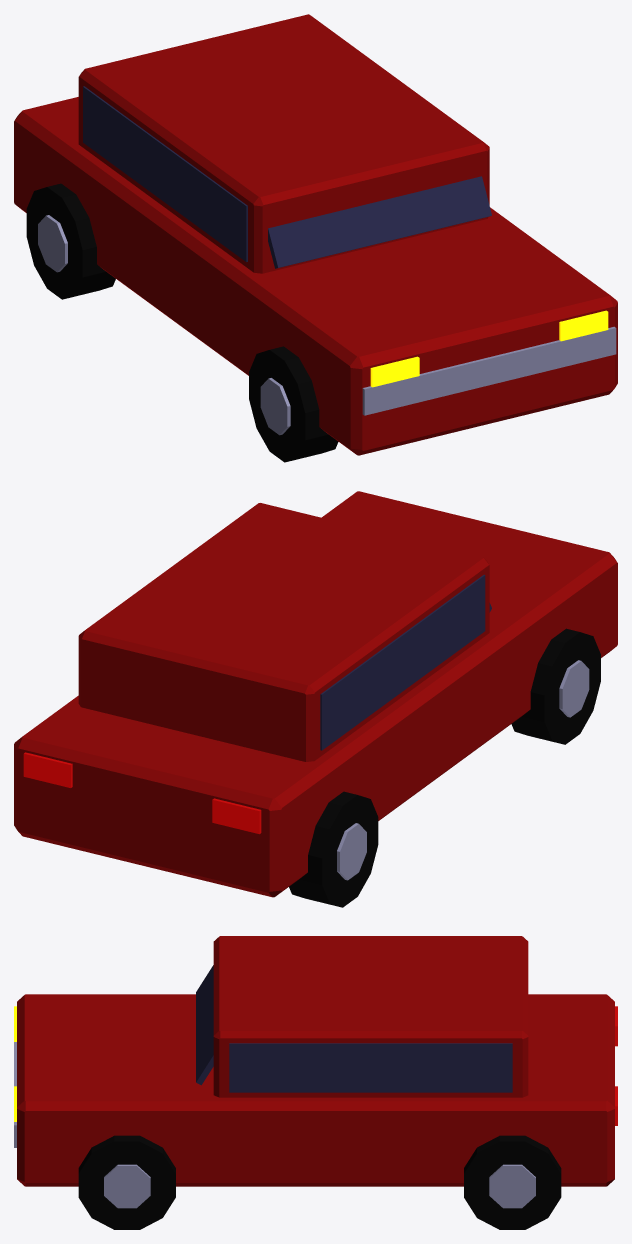
The model's file is car.glb.
The picture shows the model from 3 angles, top to bottom: view 1: azimuth 30°, elevation 25°; view 2: azimuth 150°, elevation 25°; view 3: azimuth 270°, elevation 25°; orthographic projection. The views are drawn at different scales.
Parts seen in each view (by area): view 1: root; view 2: root; view 3: root.
Boxes of the visible parts, left/top/right/bottom form: root: left=14, top=14, right=617, bottom=462; root: left=14, top=491, right=617, bottom=907; root: left=14, top=936, right=617, bottom=1229.
Bounding box in the file's own units: 1.92 × 1.29 × 3.84.
